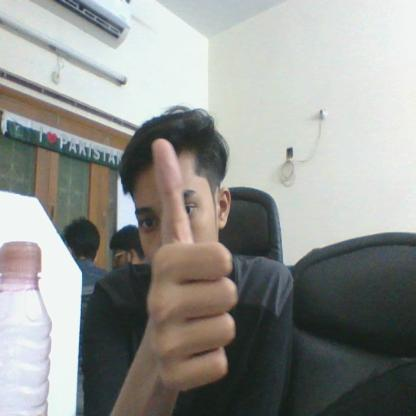thumbs-up: (138, 140, 240, 388)
